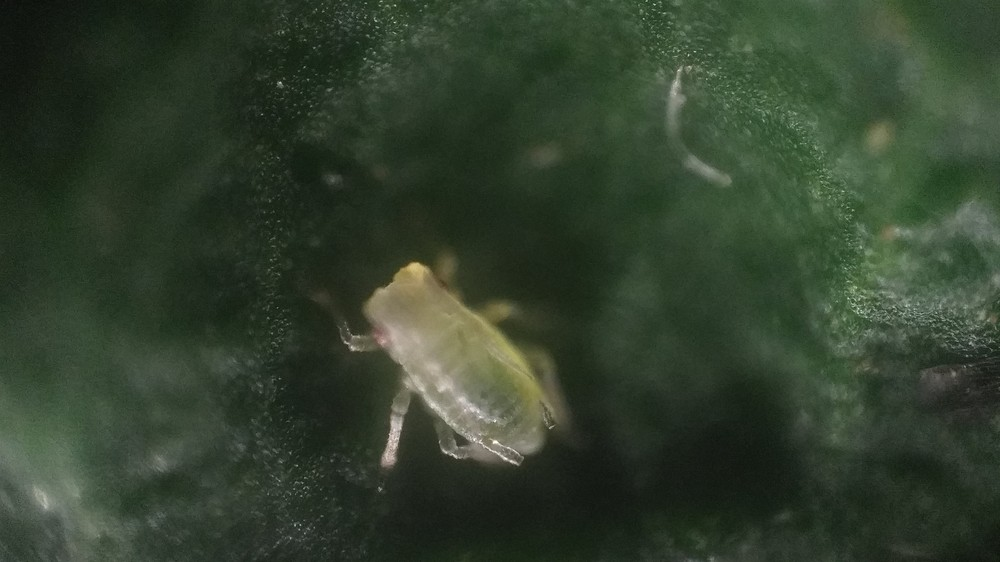Pulgon: (293, 229, 650, 514)
